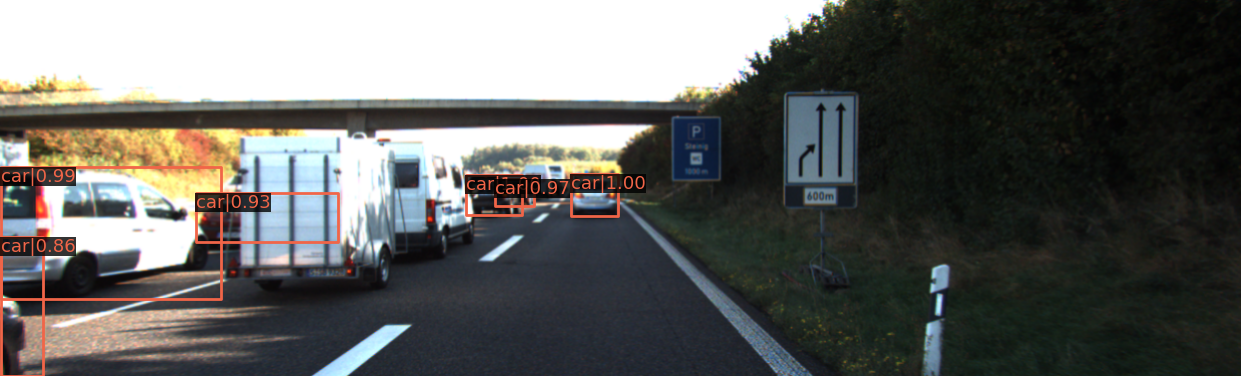car: (1, 200, 85, 376), (1, 189, 113, 271), (201, 190, 320, 250), (462, 172, 520, 217), (572, 176, 617, 217), (501, 180, 536, 206)
